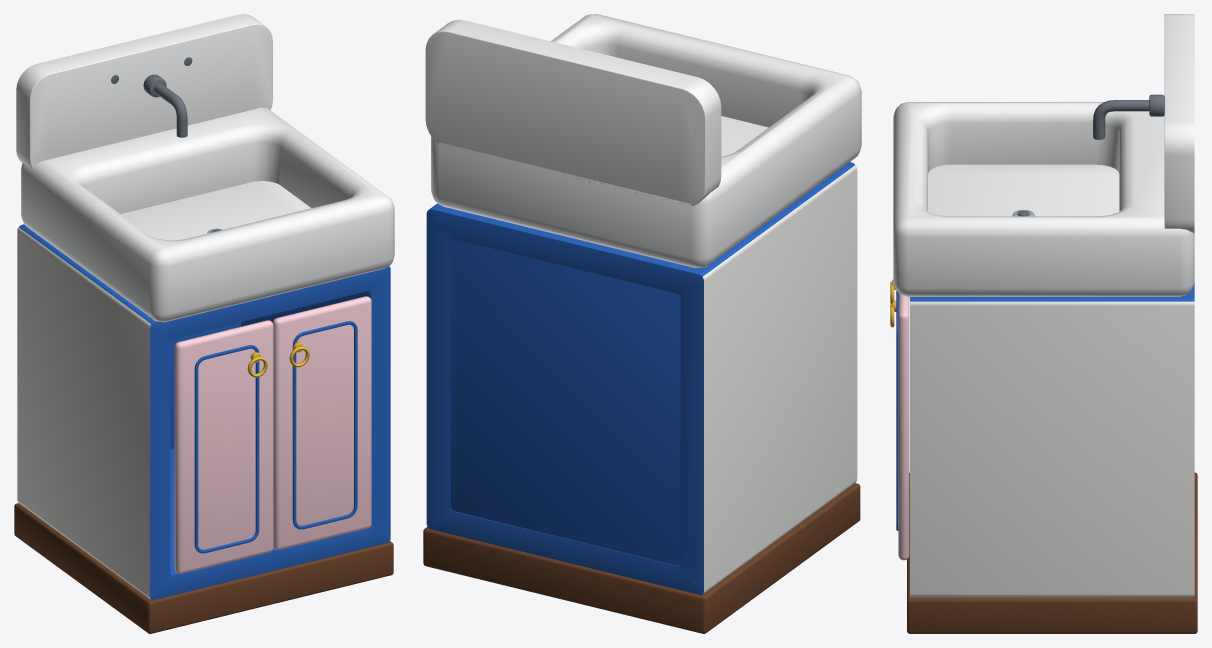
File: armario_cozinha_pia_colonial_rosa.glb
3 renders of one model, left to right at view 1: azimuth 30°, elevation 25°; view 2: azimuth 150°, elevation 25°; view 3: azimuth 270°, elevation 25°, orthographic. The views are drawn at different scales.
Parts seen in each view (by area): view 1: armario_cozinha_pia_colonial_rosa, porta_1, porta_2; view 2: armario_cozinha_pia_colonial_rosa; view 3: armario_cozinha_pia_colonial_rosa, porta_2.
Part boxes in pixels (<box>): armario_cozinha_pia_colonial_rosa: <box>14,14,394,633</box>; porta_1: <box>174,320,273,573</box>; porta_2: <box>273,296,371,549</box>; armario_cozinha_pia_colonial_rosa: <box>423,14,861,633</box>; armario_cozinha_pia_colonial_rosa: <box>893,14,1197,633</box>; porta_2: <box>890,293,909,560</box>.
Size of the model in its own units: 0.604 by 1.1 by 0.6112.
1 material, 1 textured.
